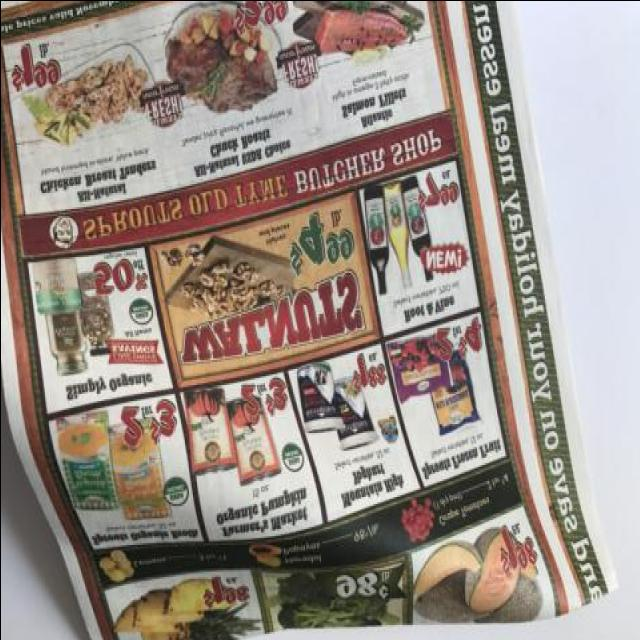kertas: (0, 0, 623, 640)
